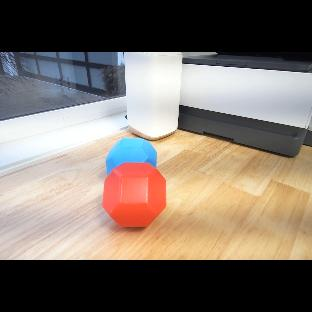V5_BLUE: (106, 138, 157, 175), (105, 136, 158, 168)
V5_RED: (102, 161, 169, 230), (102, 163, 166, 227)
